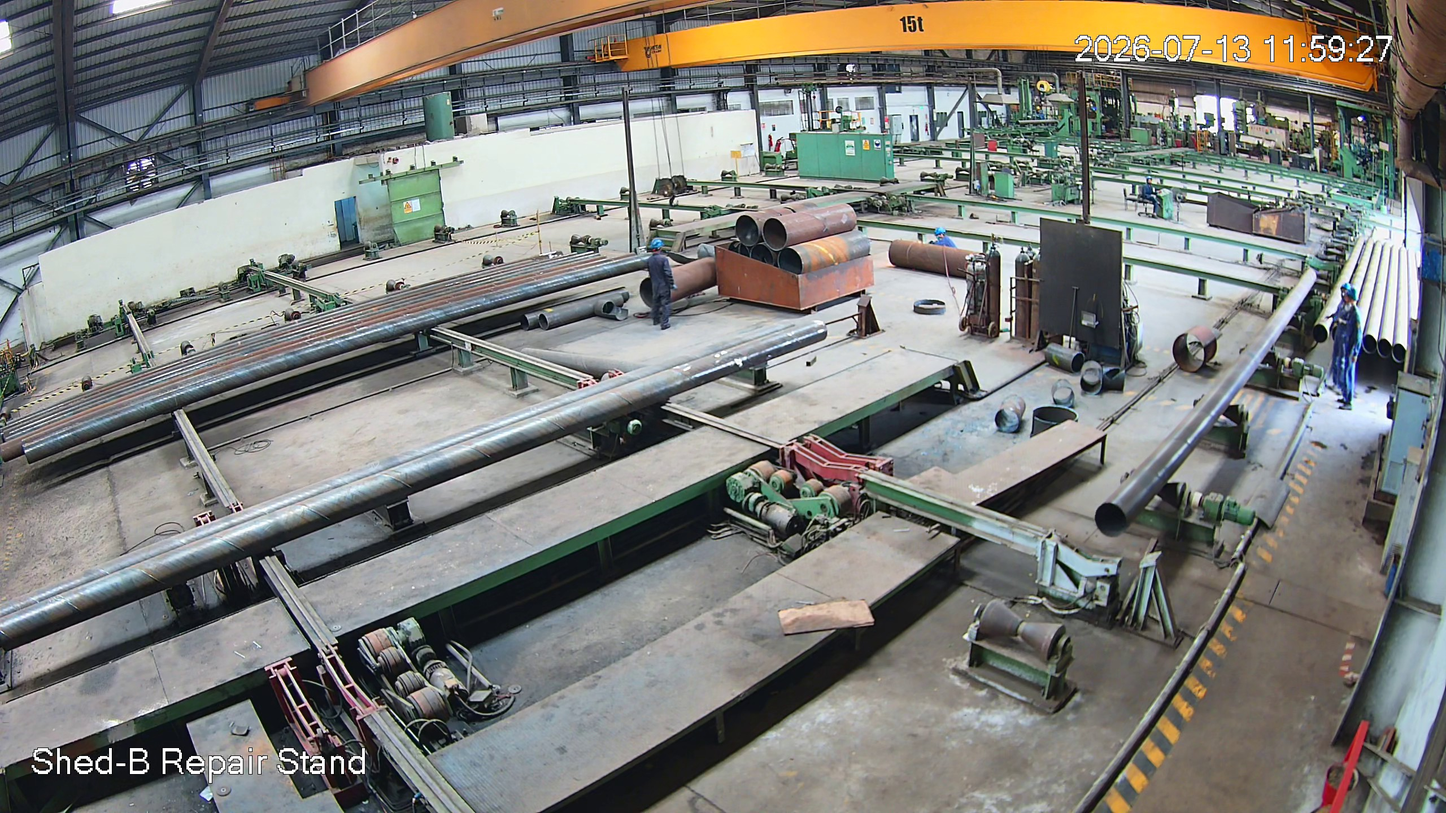Helmet: (648, 237, 667, 255)
Person: (644, 239, 675, 327)
